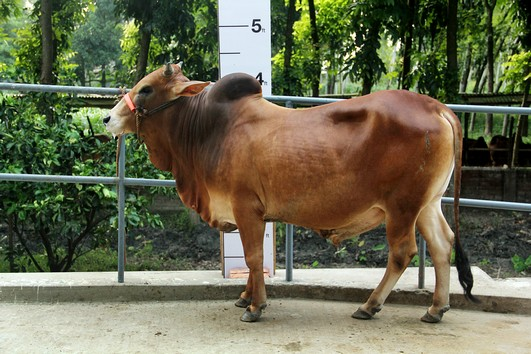cow: (98, 57, 477, 328)
